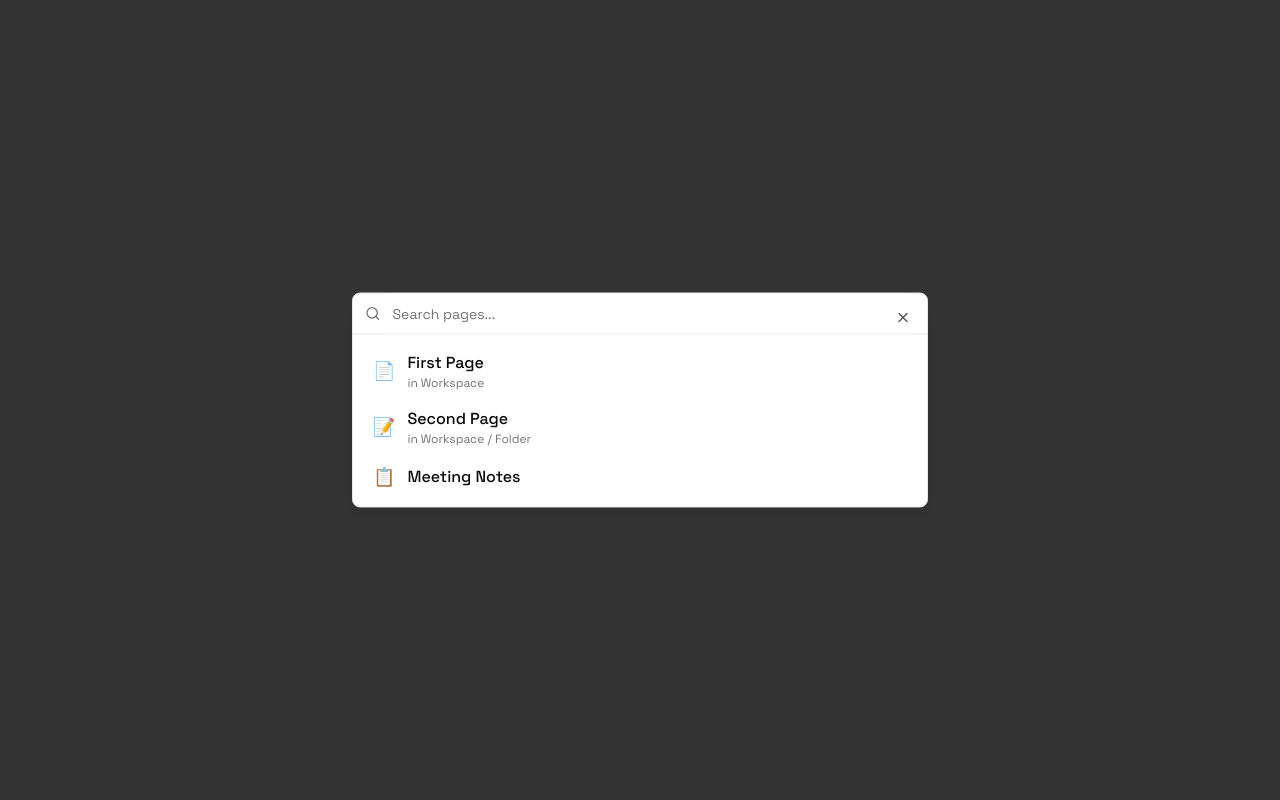
Test: SearchDialog › search functionality › should filter pages by title
The width and height of the screenshot is (1280, 800).
In the field with placeholder "Search pages...": (648, 314) left=380, top=294, right=915, bottom=334, type "Meeting"
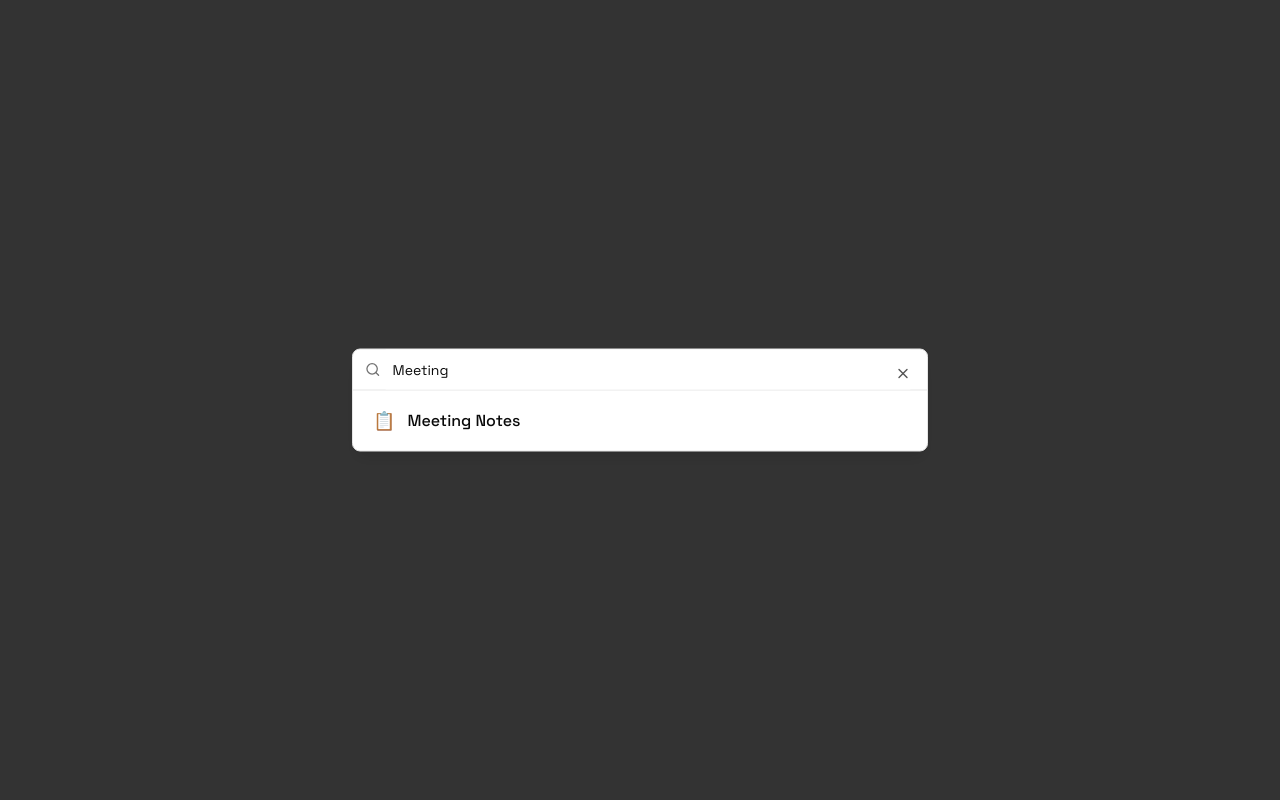
Expected: the text "Meeting Notes" is shown, left=408, top=410, right=520, bottom=430
Result: the button "First Page" is gone
Result: the button "Second Page" is gone
